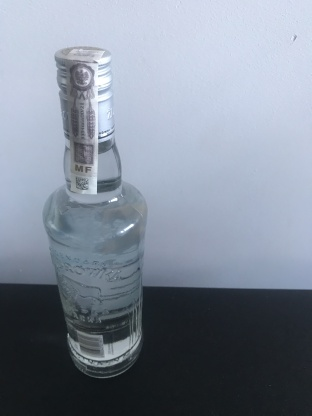nakretka: (52, 42, 117, 146)
